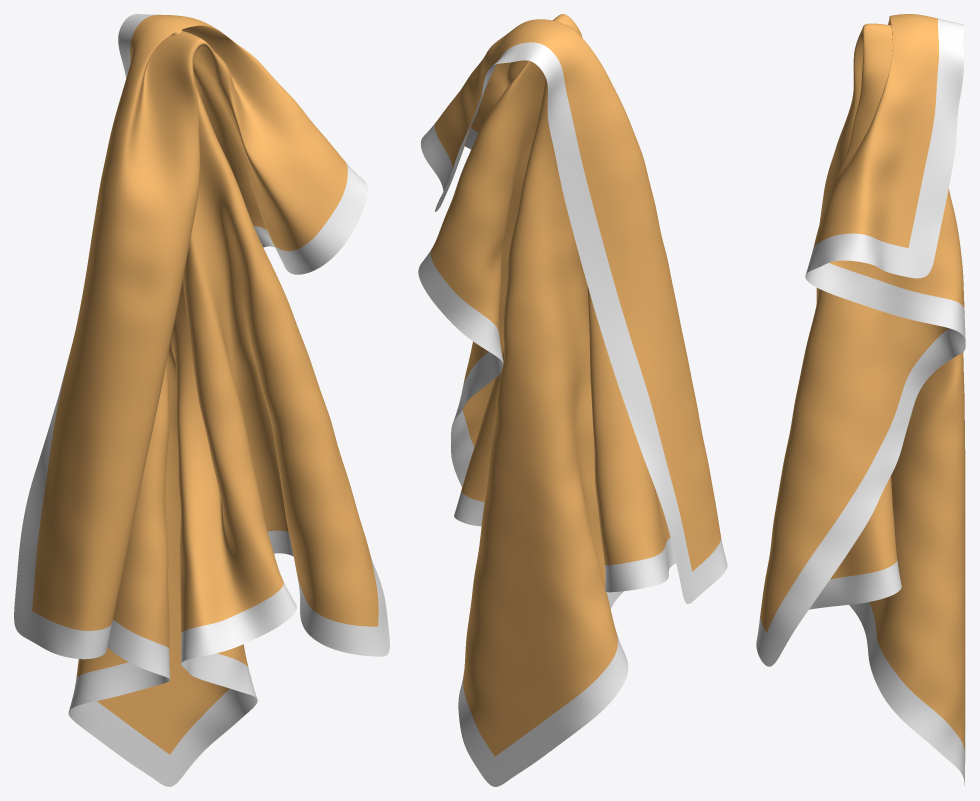
The model's file is textiel.glb.
3 views of the same model, side by side, from view 1: azimuth 30°, elevation 25°; view 2: azimuth 150°, elevation 25°; view 3: azimuth 270°, elevation 25° (orthographic). The views are drawn at different scales.
Parts seen in each view (by area): view 1: Object_2, Object_3; view 2: Object_2, Object_3; view 3: Object_2, Object_3.
Boxes of the visible parts, x1,y1,x2,y2 form: Object_2: [32, 14, 378, 754]; Object_3: [14, 14, 389, 786]; Object_2: [430, 14, 721, 756]; Object_3: [418, 42, 727, 786]; Object_2: [760, 14, 965, 754]; Object_3: [756, 18, 965, 785].
Size of the model in its own units: 0.1952 by 0.4713 by 0.1184.
